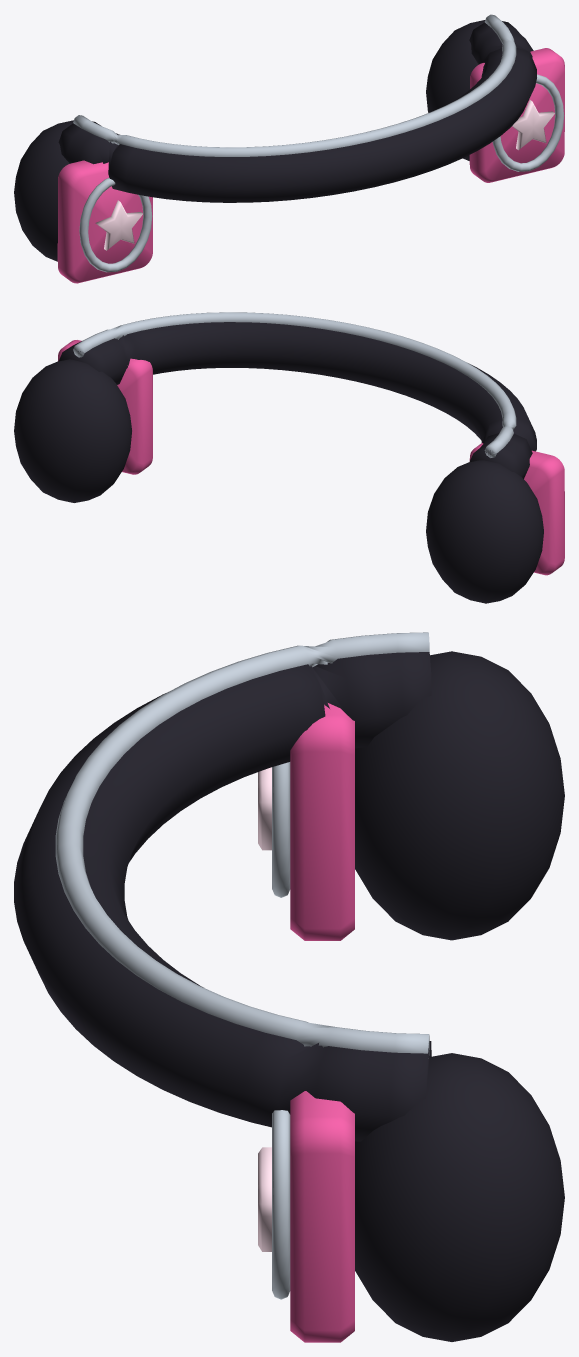
File: pixel_neck_headphones.glb
3 renders of one model, top to bottom at view 1: azimuth 30°, elevation 25°; view 2: azimuth 150°, elevation 25°; view 3: azimuth 270°, elevation 25°, orthographic. The views are drawn at different scales.
Visible parts, largest first — view 1: pixel_neck_headphones_dark, pixel_neck_headphones_accent, pixel_neck_headphones_metal, pixel_neck_headphones_gem; view 2: pixel_neck_headphones_dark, pixel_neck_headphones_accent, pixel_neck_headphones_metal; view 3: pixel_neck_headphones_dark, pixel_neck_headphones_accent, pixel_neck_headphones_metal, pixel_neck_headphones_gem.
Part boxes in pixels (box(x1,y1,x2,y2)): pixel_neck_headphones_dark: box(14, 20, 536, 261); pixel_neck_headphones_accent: box(57, 48, 564, 283); pixel_neck_headphones_metal: box(73, 14, 564, 272); pixel_neck_headphones_gem: box(95, 100, 554, 250); pixel_neck_headphones_dark: box(14, 322, 543, 603); pixel_neck_headphones_accent: box(58, 340, 564, 575); pixel_neck_headphones_metal: box(73, 312, 516, 457); pixel_neck_headphones_dark: box(14, 651, 564, 1341); pixel_neck_headphones_accent: box(290, 703, 354, 1342); pixel_neck_headphones_metal: box(55, 632, 429, 1299); pixel_neck_headphones_gem: box(258, 767, 271, 1251).
Size of the model in its own units: 0.258 by 0.0715 by 0.1194.
